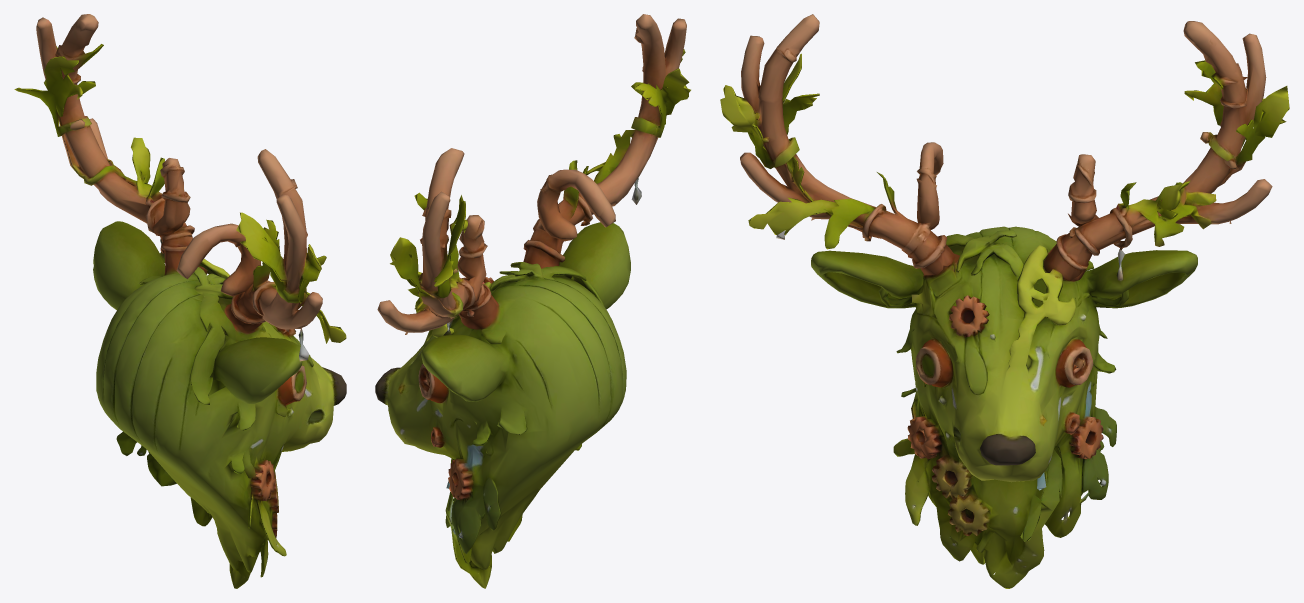
The model's file is head.glb.
3 views of the same model, side by side, from view 1: azimuth 30°, elevation 25°; view 2: azimuth 150°, elevation 25°; view 3: azimuth 270°, elevation 25° (orthographic). The views are drawn at different scales.
Visible parts, largest first — view 1: tripo_node_1241d58a-d550-4be0-a284-1b9edfb095f6; view 2: tripo_node_1241d58a-d550-4be0-a284-1b9edfb095f6; view 3: tripo_node_1241d58a-d550-4be0-a284-1b9edfb095f6.
Part boxes in pixels (<box>): tripo_node_1241d58a-d550-4be0-a284-1b9edfb095f6: <box>14,14,346,588</box>; tripo_node_1241d58a-d550-4be0-a284-1b9edfb095f6: <box>375,14,690,588</box>; tripo_node_1241d58a-d550-4be0-a284-1b9edfb095f6: <box>720,14,1289,588</box>.
Bounding box in the file's own units: 0.459 × 1 × 0.953.
Materials: 1 (1 with a texture image).
